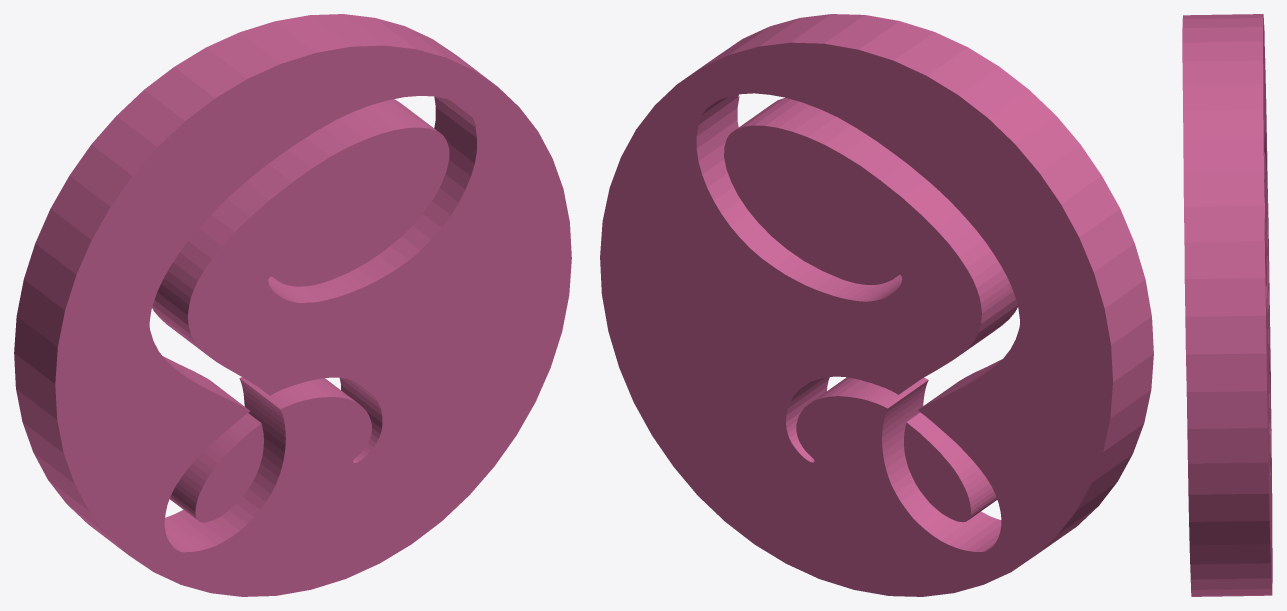
The model's file is Sass_mobile_model.glb.
3 views of the same model, side by side, from view 1: azimuth 30°, elevation 25°; view 2: azimuth 150°, elevation 25°; view 3: azimuth 270°, elevation 25° (orthographic). The views are drawn at different scales.
Visible parts, largest first — view 1: Curve; view 2: Curve; view 3: Curve.
Boxes of the visible parts, x1,y1,x2,y2 form: Curve: [14, 14, 571, 596]; Curve: [600, 14, 1153, 596]; Curve: [1182, 14, 1272, 596].
Size of the model in its own units: 0.00677 by 0.00679 by 0.00105.
